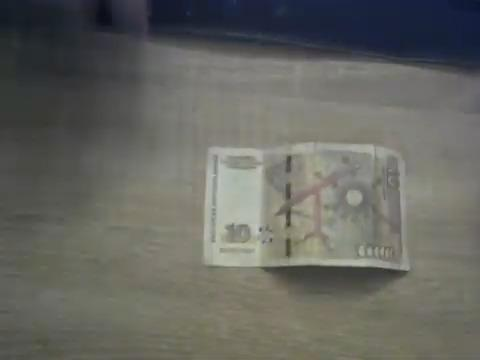10leva: (201, 143, 411, 272)
